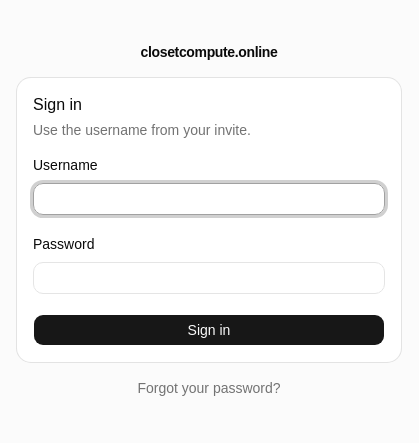
login flow › shows the server's error and stays on the page
Type "pia" into the field labelled "Username" at (209, 199), box 33,183 -> 385,215
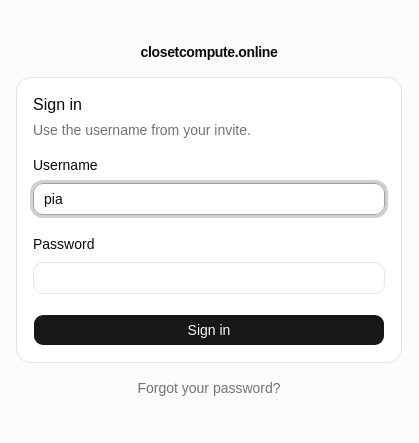
Type "correct horse" into the password field labelled "Password" at (209, 278), box 33,262 -> 385,294
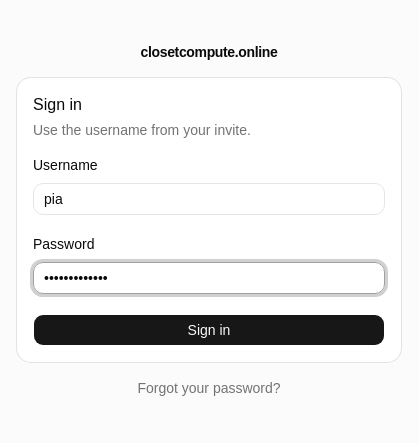
Click the button "Sign in" at (209, 330), box 33,314 -> 385,346
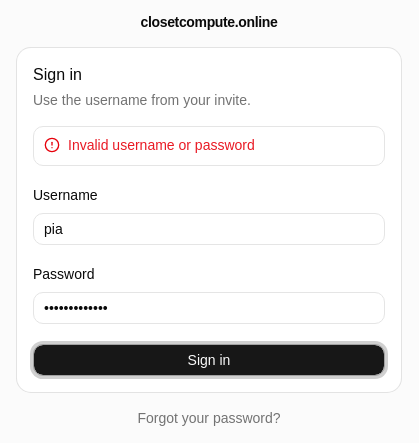
Check: the message reads "Invalid username or password", box 68,137 -> 255,153
